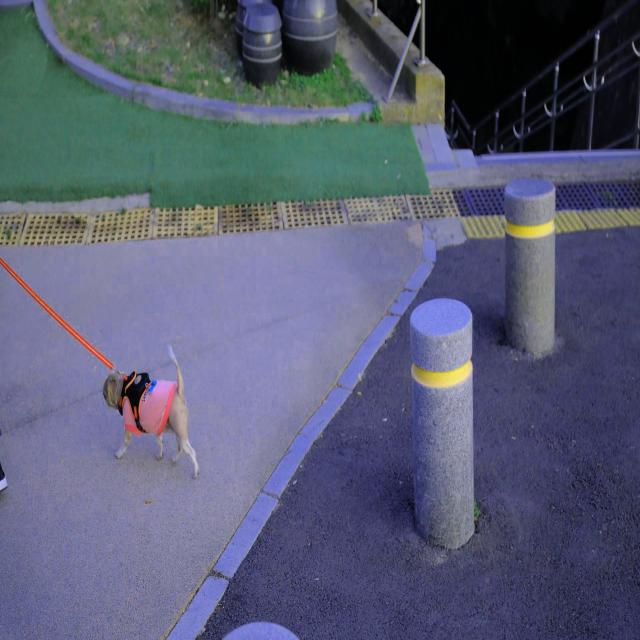Dog: (101, 341, 202, 483)
